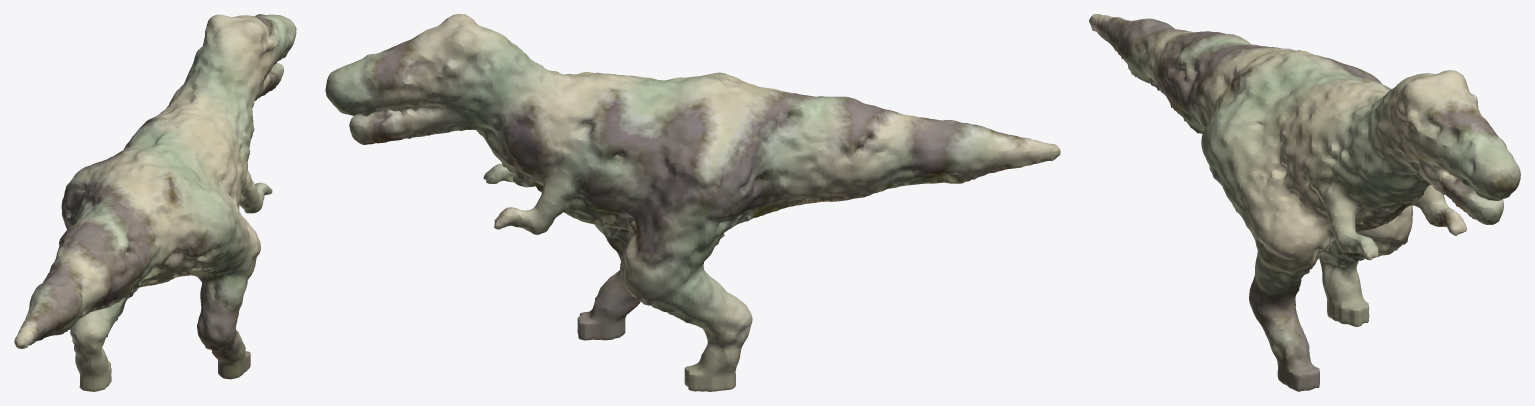
3 renders of one model, left to right at view 1: azimuth 30°, elevation 25°; view 2: azimuth 150°, elevation 25°; view 3: azimuth 270°, elevation 25°, orthographic. The views are drawn at different scales.
Bounding box in the file's own units: 0.1816 × 0.1129 × 0.1298.
